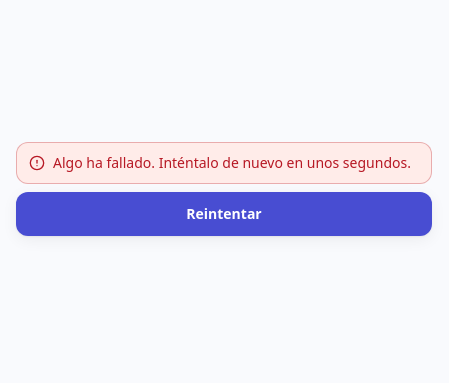
PantallaCancelacion (003) › [003][FR-017][US2-AC1] un error del servidor ofrece «Reintentar» con el mensaje genérico
Expected: the message reads "Algo ha fallado. Inténtalo de nuevo en unos segundos.", [53,153,411,172]
Click the button "Reintentar": (224, 214) [16,192,432,236]
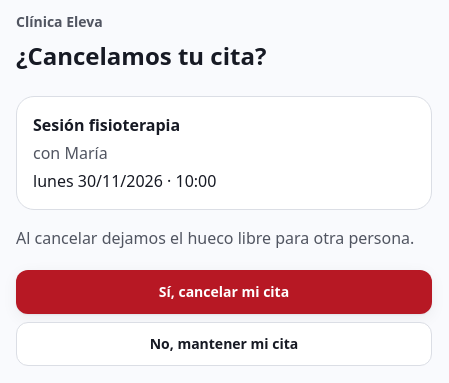
Expected: the heading "¿Cancelamos tu cita?" is shown, [16,39,266,72]
